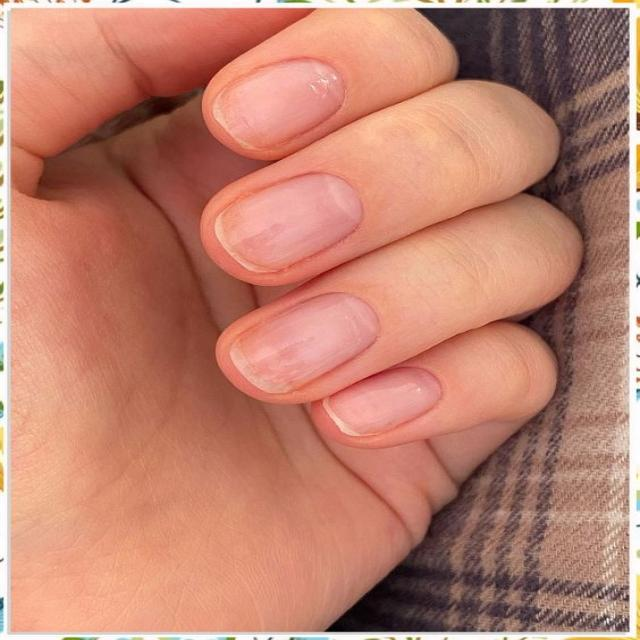Fingernail: (230, 293, 380, 394), (214, 173, 363, 274), (213, 59, 344, 151), (324, 368, 442, 437)
